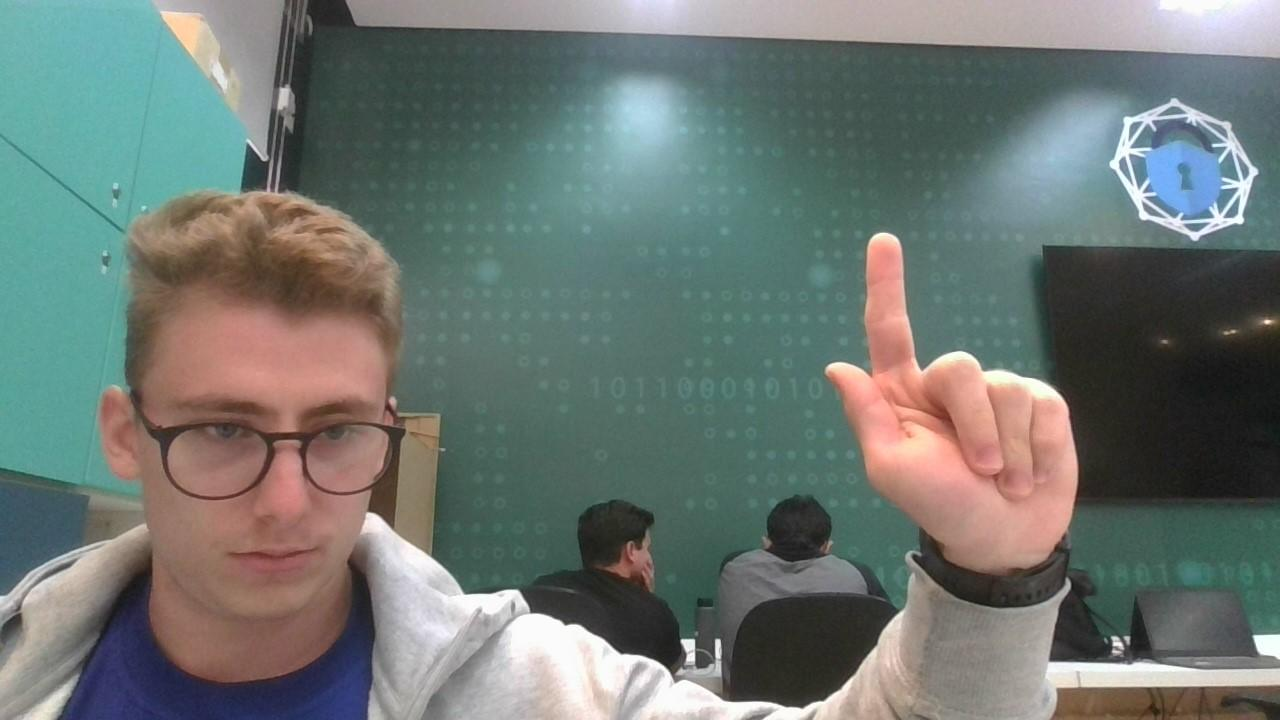G: (822, 222, 1082, 558)
